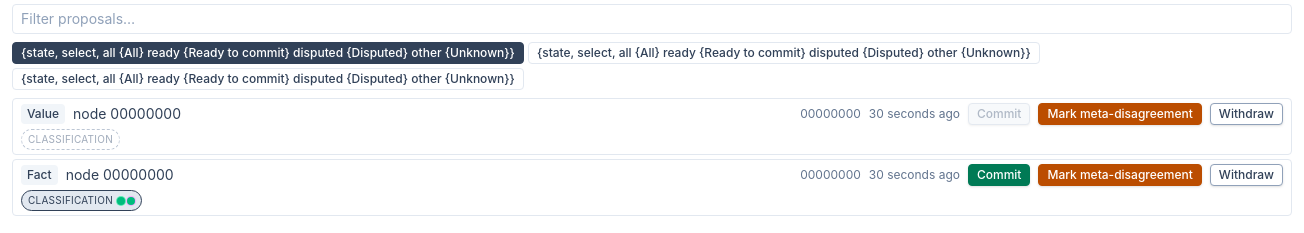
Scenario: PendingProposalsPane — filter strip › (d) clicking the "Ready" chip narrows the list to rows whose deriveAllAgree returns ok
Expected: the number of list items with test id "pending-proposal-row" is 2, left=12, top=98, right=1292, bottom=155; left=12, top=159, right=1292, bottom=216
What coordinates should you click on to do the following:
click the button with test id "pending-proposals-filter-state"
I would click on:
 (784, 53)
Its box is left=528, top=42, right=1040, bottom=64.
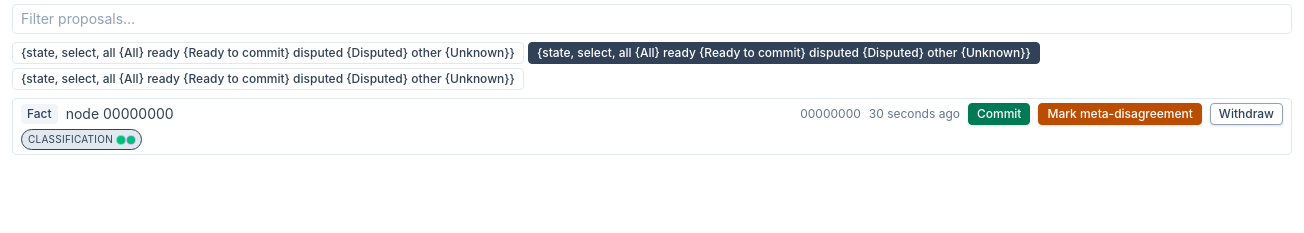
Result: the number of list items with test id "pending-proposal-row" is 1 at left=12, top=98, right=1292, bottom=155
